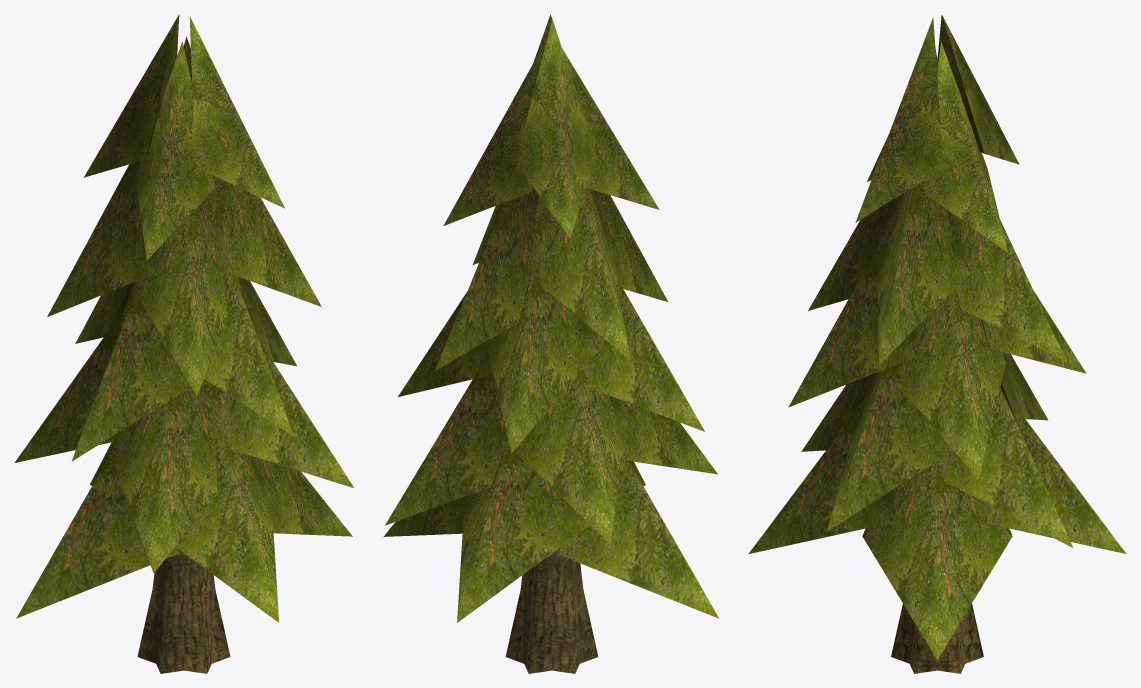
Rendered from Tree05.FBX.
The picture shows the model from 3 angles, left to right: view 1: azimuth 30°, elevation 25°; view 2: azimuth 150°, elevation 25°; view 3: azimuth 270°, elevation 25°; orthographic projection.
Visible parts, largest first — view 1: Tree05; view 2: Tree05; view 3: Tree05.
Boxes of the visible parts, <box> form: Tree05: <box>14,14,353,673</box>; Tree05: <box>383,14,718,673</box>; Tree05: <box>748,14,1126,673</box>.
Size of the model in its own units: 517 by 942 by 504.
